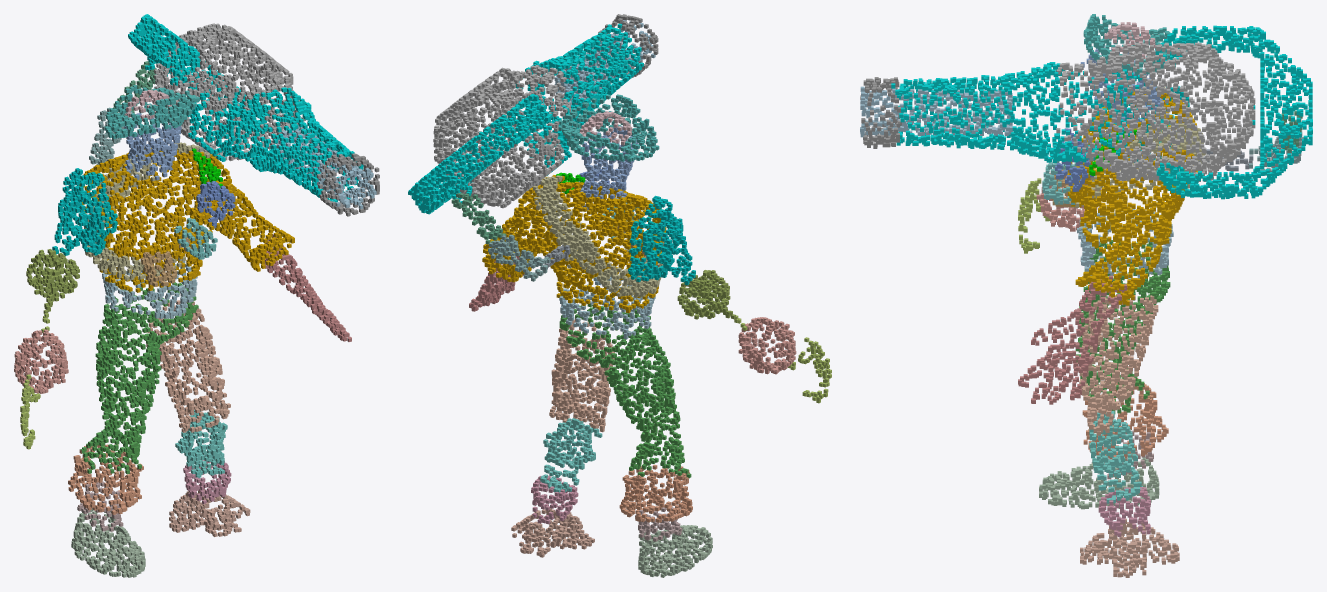
The model's file is character-3.glb.
The picture shows the model from 3 angles, left to right: view 1: azimuth 30°, elevation 25°; view 2: azimuth 150°, elevation 25°; view 3: azimuth 270°, elevation 25°; orthographic projection. The views are drawn at different scales.
Visible parts, largest first — view 1: world; view 2: world; view 3: world.
Part boxes in pixels (left/top/right/bottom): world: left=14, top=14, right=379, bottom=577; world: left=408, top=14, right=831, bottom=577; world: left=860, top=14, right=1312, bottom=577.
Bounding box in the file's own units: 1.12 × 1.47 × 1.14.
